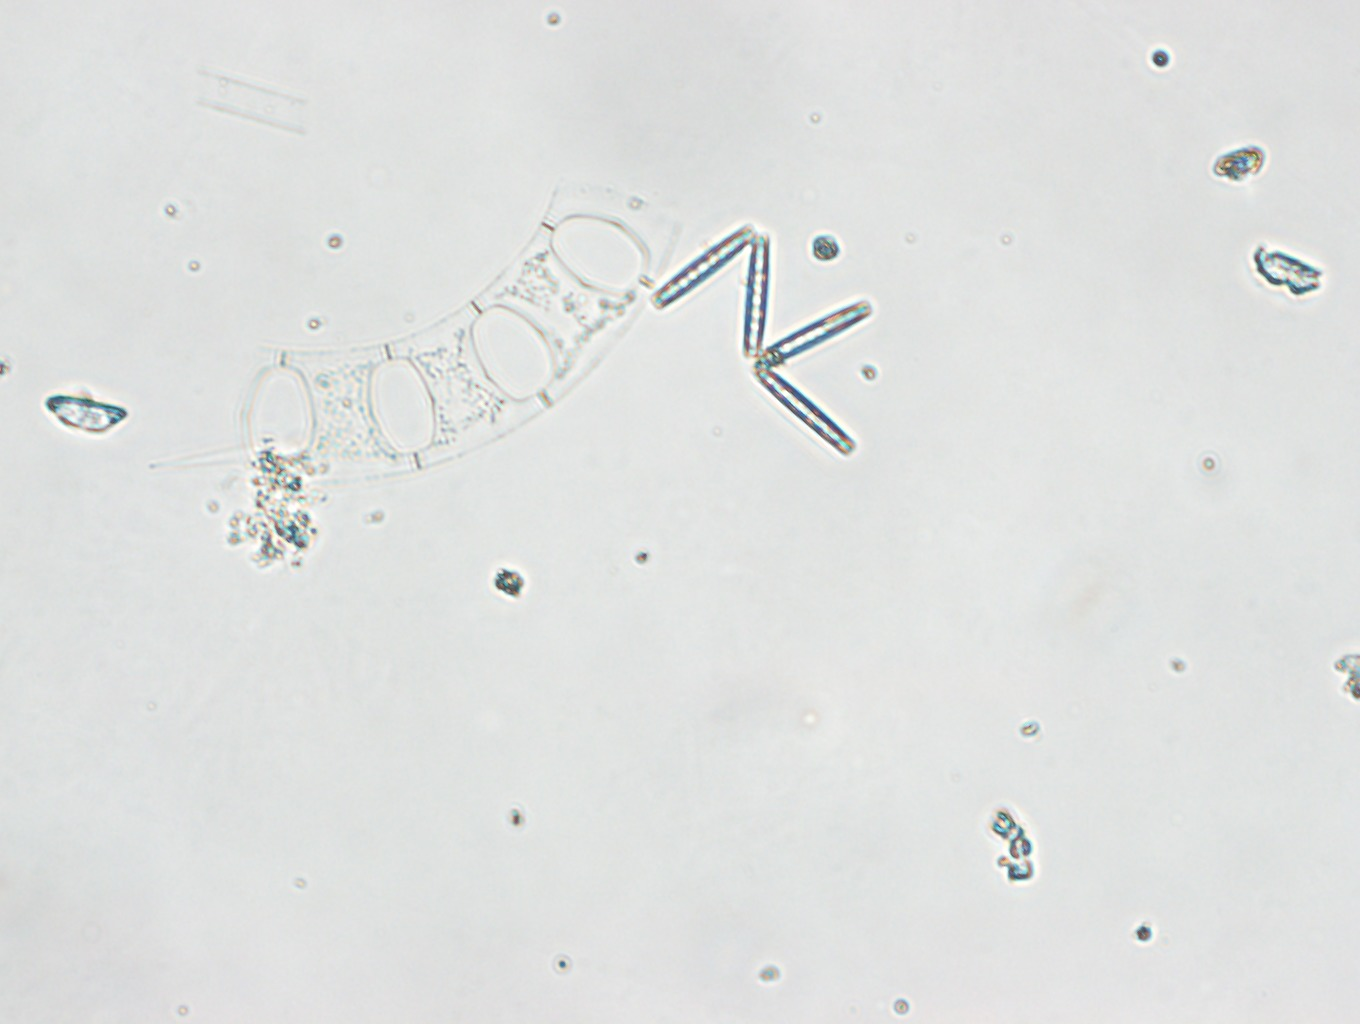eucampia: (250, 180, 684, 470)
thalassionema nitzschioides: (652, 227, 874, 459)
